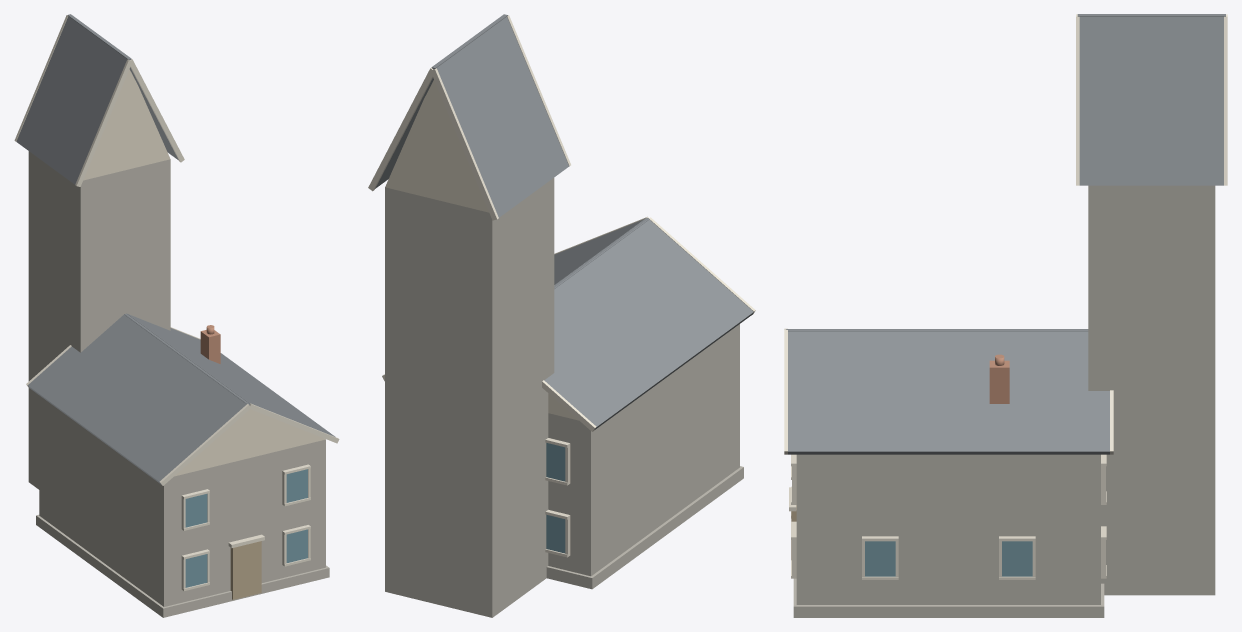
The model's file is rhine-church_lod1.glb.
The picture shows the model from 3 angles, left to right: view 1: azimuth 30°, elevation 25°; view 2: azimuth 150°, elevation 25°; view 3: azimuth 270°, elevation 25°; orthographic projection. The views are drawn at different scales.
Parts seen in each view (by area): view 1: RF_Body, RF_ChurchTower, RF_Roof.001, RF_Roof.003, RF_Gable.002, RF_Gable, RF_Roof.002, RF_Foundation, RF_Door.001, RF_Vergeband.005, RF_Vergeband.001, RF_Vergeband.007 (+7 smaller); view 2: RF_ChurchTower, RF_Body, RF_Roof.001, RF_Roof.003, RF_Gable.003, RF_Foundation, RF_Roof.002, RF_Vergeband.006, RF_Vergeband, RF_Window.005, RF_Window.006, RF_Roof; view 3: RF_ChurchTower, RF_Body, RF_Roof.002, RF_Roof, RF_Foundation, RF_Window.009, RF_Window, RF_Ridge.001, RF_Chimney, RF_Vergeband.007, RF_Vergeband.
Part boxes in pixels (left/top/right/bottom): RF_Body: left=39, top=395, right=325, bottom=606; RF_ChurchTower: left=28, top=151, right=170, bottom=489; RF_Roof.001: left=27, top=314, right=247, bottom=484; RF_Roof.003: left=16, top=16, right=127, bottom=184; RF_Gable.002: left=83, top=69, right=170, bottom=180; RF_Gable: left=174, top=409, right=325, bottom=476; RF_Roof.002: left=127, top=314, right=335, bottom=436; RF_Foundation: left=36, top=514, right=329, bottom=617; RF_Door.001: left=230, top=541, right=261, bottom=599; RF_Vergeband.005: left=75, top=59, right=131, bottom=186; RF_Vergeband.001: left=159, top=404, right=249, bottom=485; RF_Vergeband.007: left=129, top=59, right=184, bottom=162; RF_ChurchTower: left=385, top=178, right=554, bottom=617; RF_Body: left=548, top=324, right=739, bottom=576; RF_Roof.001: left=544, top=219, right=753, bottom=429; RF_Roof.003: left=436, top=17, right=568, bottom=217; RF_Gable.003: left=385, top=80, right=488, bottom=212; RF_Foundation: left=546, top=466, right=743, bottom=589; RF_Roof.002: left=554, top=218, right=646, bottom=285; RF_Vergeband.006: left=430, top=68, right=498, bottom=220; RF_Vergeband: left=368, top=67, right=433, bottom=191; RF_Window.005: left=546, top=514, right=565, bottom=553; RF_Window.006: left=546, top=443, right=565, bottom=481; RF_Roof: left=375, top=77, right=433, bottom=188; RF_ChurchTower: left=1088, top=185, right=1215, bottom=595; RF_Body: left=796, top=454, right=1100, bottom=604; RF_Roof.002: left=788, top=330, right=1109, bottom=454; RF_Roof: left=1079, top=16, right=1223, bottom=185; RF_Foundation: left=793, top=578, right=1104, bottom=617; RF_Window.009: left=865, top=541, right=895, bottom=576; RF_Window: left=1002, top=541, right=1032, bottom=576; RF_Ridge.001: left=786, top=329, right=1088, bottom=331; RF_Chimney: left=989, top=360, right=1009, bottom=403; RF_Vergeband.007: left=1076, top=16, right=1079, bottom=185; RF_Vergeband: left=1224, top=16, right=1227, bottom=185.
Size of the model in its own units: 9.93 by 24.08 by 17.48.
